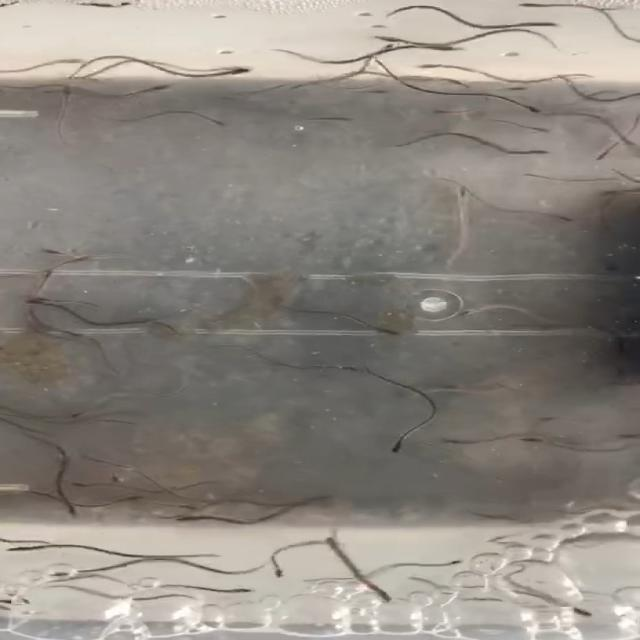active_glass_eel: (367, 32, 432, 50), (212, 61, 263, 82), (27, 565, 85, 583), (167, 507, 226, 524), (548, 598, 591, 621), (34, 52, 91, 68), (508, 20, 576, 33), (136, 76, 182, 95), (414, 40, 459, 58), (0, 542, 56, 556), (429, 552, 478, 568), (450, 301, 488, 321), (47, 82, 77, 107), (43, 244, 84, 262), (366, 322, 412, 338), (434, 104, 486, 118), (156, 498, 208, 512), (430, 432, 477, 447), (386, 432, 413, 458), (582, 144, 616, 164), (449, 182, 475, 208), (509, 122, 557, 136), (110, 493, 156, 507), (511, 0, 560, 13), (26, 266, 61, 284), (266, 556, 294, 578), (100, 469, 135, 486), (62, 476, 99, 492), (494, 85, 546, 96), (215, 584, 262, 596), (619, 132, 640, 158), (62, 405, 96, 421), (313, 113, 358, 125), (356, 85, 404, 96), (24, 296, 64, 309), (513, 146, 553, 158), (518, 431, 548, 447), (547, 210, 581, 224), (201, 116, 232, 131), (329, 360, 362, 374), (59, 255, 99, 266), (418, 63, 454, 72)
